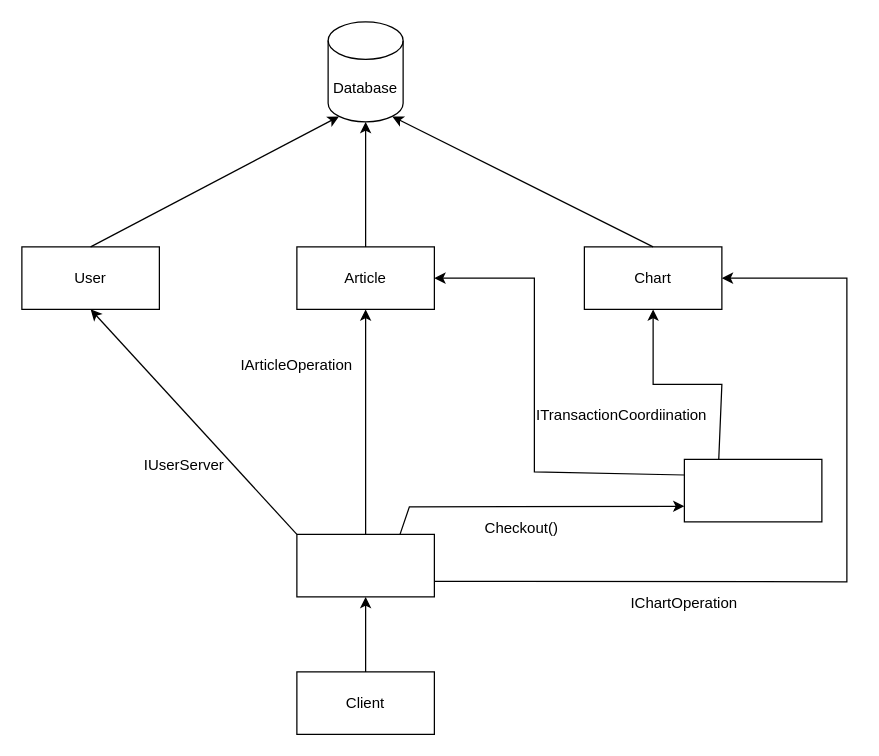
Image size: 879x756. Some labels were removed from this diagram. The centre of each missing label's shape, as x and y in pixels:
Transaction Coordinator: (752,490)
Validator: (365,565)
